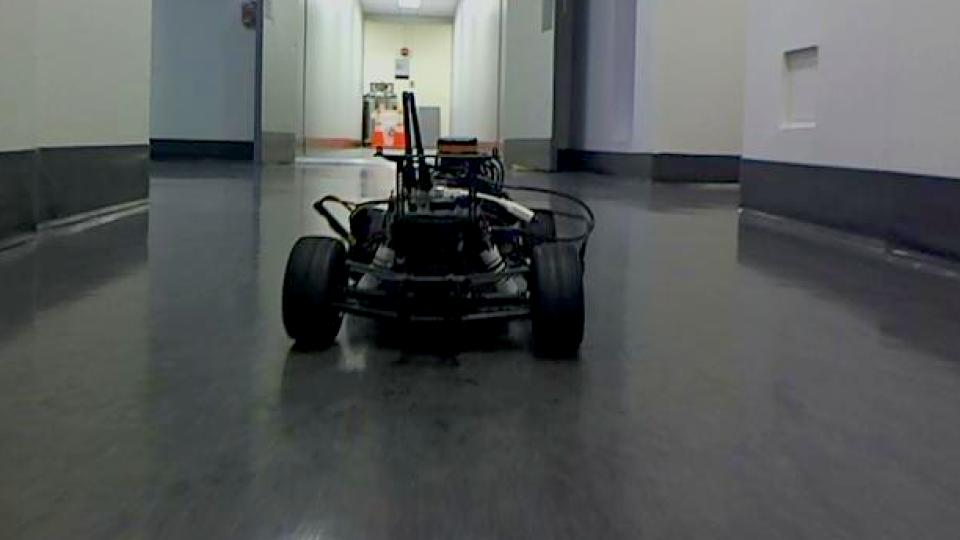car: (278, 87, 594, 359)
